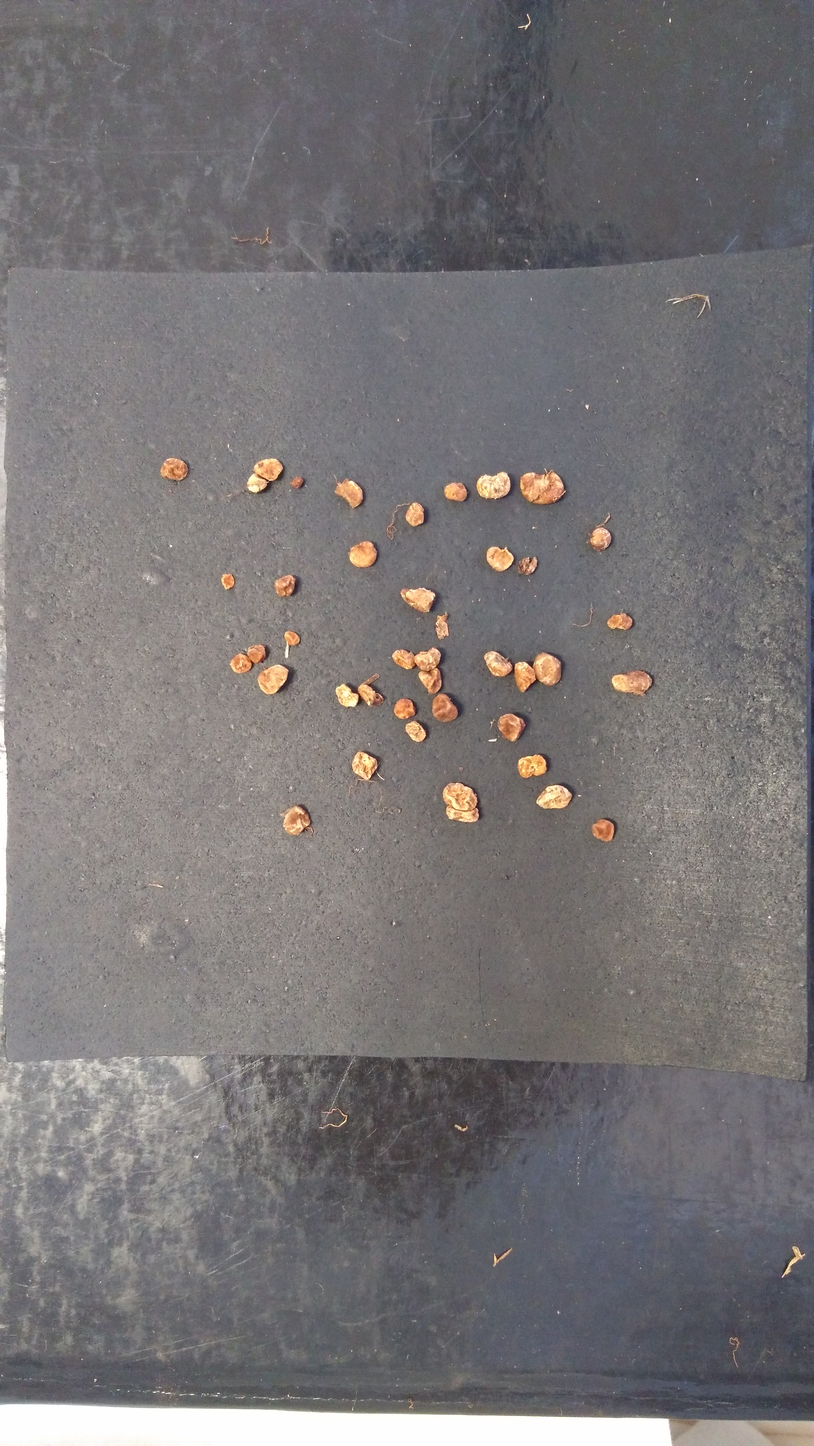nodule: (431, 778, 489, 832), (515, 468, 576, 509), (610, 663, 658, 706), (276, 799, 320, 842), (329, 470, 371, 514), (348, 744, 385, 789), (530, 651, 570, 691), (249, 662, 294, 697), (340, 538, 386, 571), (155, 455, 199, 488), (532, 782, 576, 815), (394, 583, 436, 615), (438, 471, 473, 509), (493, 710, 529, 746), (428, 689, 464, 725), (479, 644, 514, 681), (473, 470, 512, 503), (510, 657, 541, 696), (511, 750, 552, 779), (250, 455, 288, 486), (585, 524, 618, 558), (480, 541, 515, 573), (585, 812, 619, 844), (333, 678, 361, 716), (220, 648, 253, 677), (415, 666, 447, 695), (270, 570, 298, 600), (405, 498, 431, 530), (414, 647, 448, 671), (605, 607, 636, 632), (401, 719, 431, 744), (391, 645, 416, 675), (352, 681, 378, 708), (389, 694, 417, 719), (243, 640, 270, 665), (515, 553, 542, 577), (246, 470, 271, 495), (279, 624, 303, 649), (285, 474, 307, 493), (220, 570, 238, 592)
